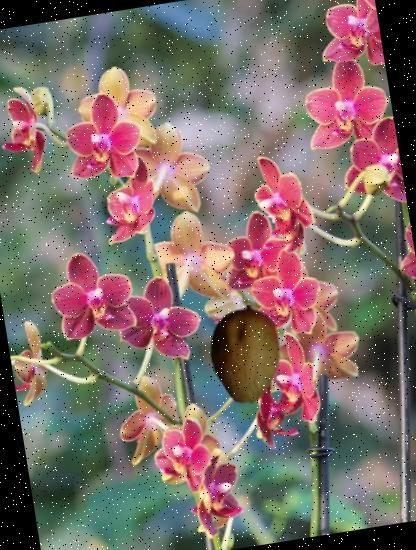Papaya: (189, 299, 302, 412)
